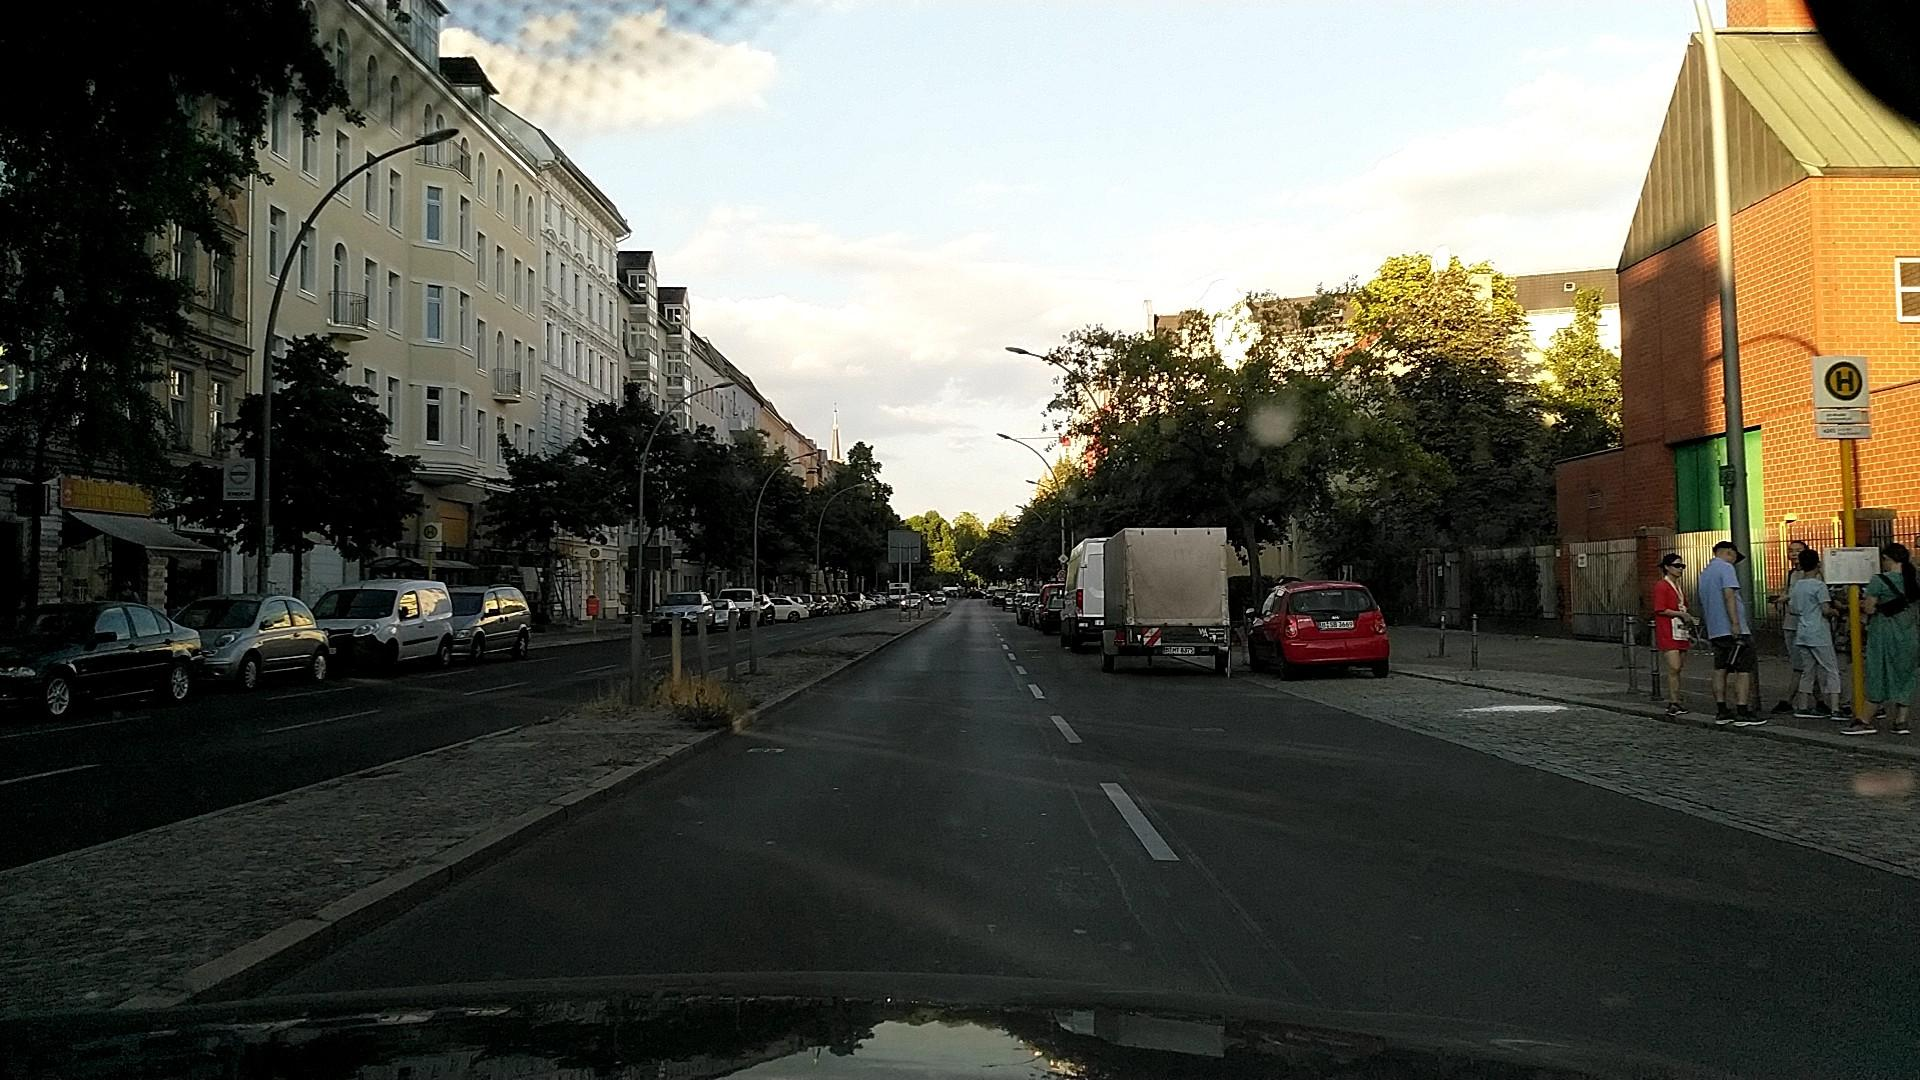Human face: (1881, 547, 1906, 572), (1714, 542, 1738, 565), (1785, 541, 1807, 565), (1664, 555, 1684, 578)
Vehicle registration plate: (1318, 620, 1354, 629), (1162, 646, 1195, 656)
